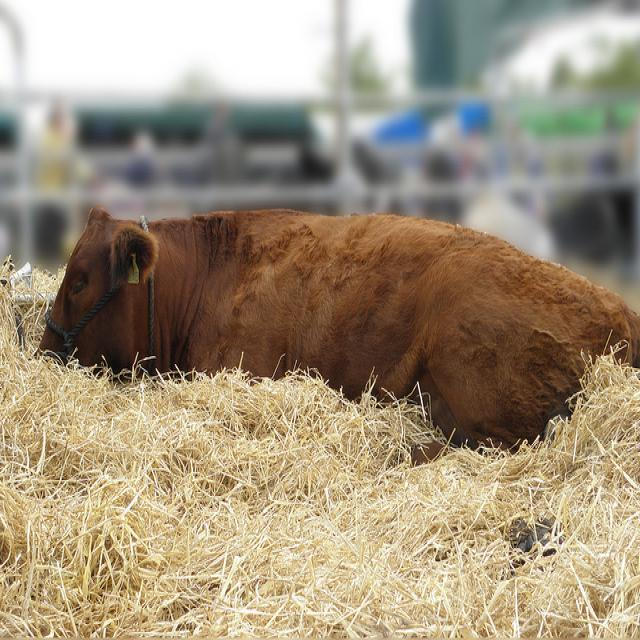cow: (34, 202, 639, 458)
